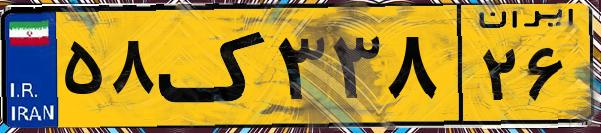2: (475, 38, 525, 113)
3: (270, 28, 330, 110), (330, 28, 385, 110)
5: (57, 26, 110, 100)
6: (525, 38, 570, 115)
8: (385, 28, 445, 110), (110, 28, 158, 98)
ک: (158, 12, 270, 120)
